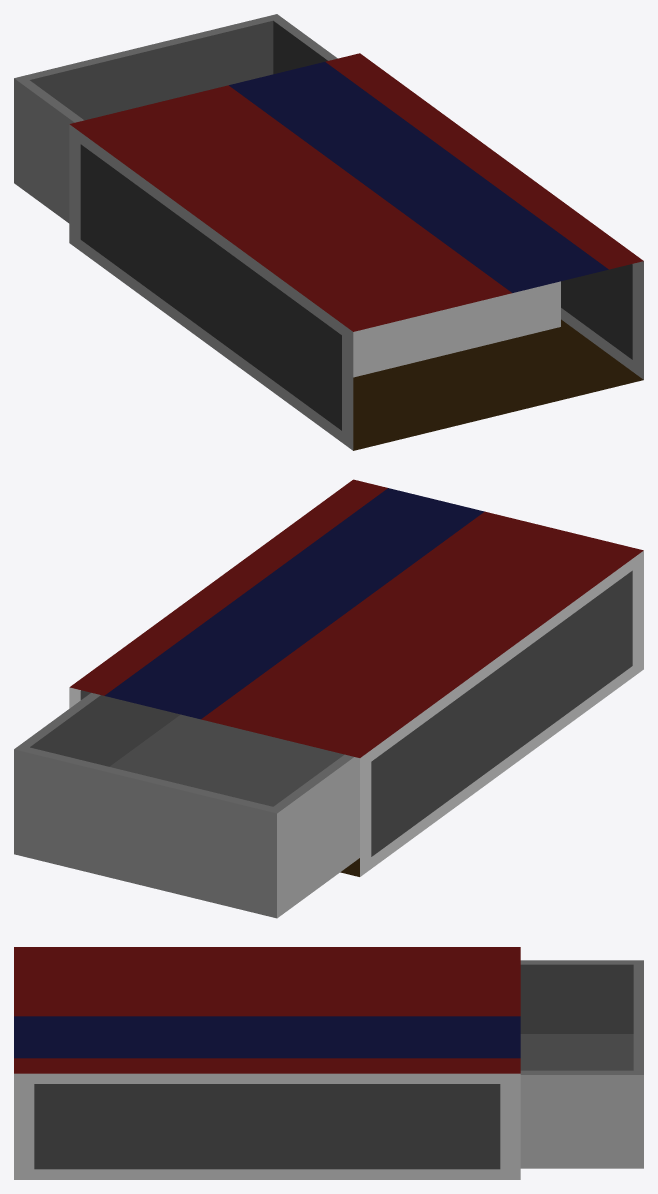
The model's file is Matchbox.fbx.
3 views of the same model, one above another, from view 1: azimuth 30°, elevation 25°; view 2: azimuth 150°, elevation 25°; view 3: azimuth 270°, elevation 25° (orthographic). The views are drawn at different scales.
Parts seen in each view (by area): view 1: MatchboxSleeve; view 2: MatchboxSleeve; view 3: MatchboxSleeve.
Boxes of the visible parts, bbox=[...] form: MatchboxSleeve: bbox=[14, 14, 643, 450]; MatchboxSleeve: bbox=[14, 479, 643, 918]; MatchboxSleeve: bbox=[14, 947, 643, 1179].
Size of the model in its own units: 221 by 465 by 86.41.
